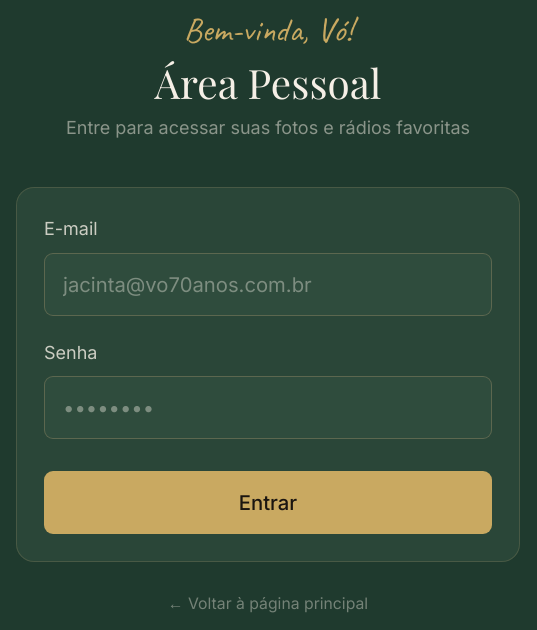
Test: LoginPage › shows loading state while submitting
Type "ana@test.com" into the field labelled "E-mail" at (268, 285), box [44,253,492,316]
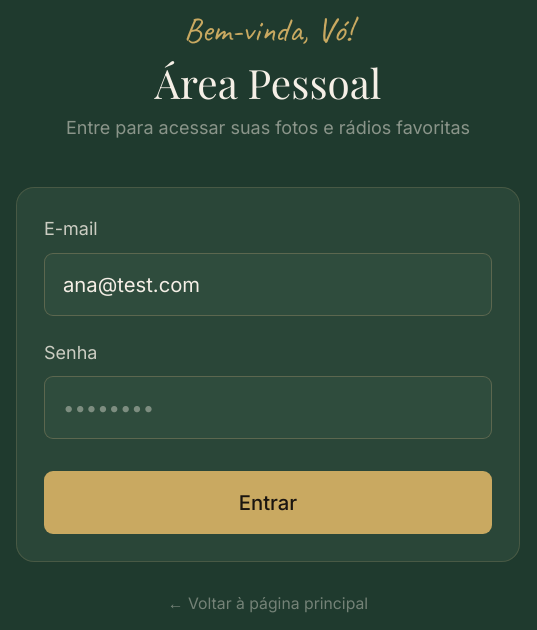
Type "pass" into the password field labelled "Senha" at (268, 408), box [44,376,492,439]
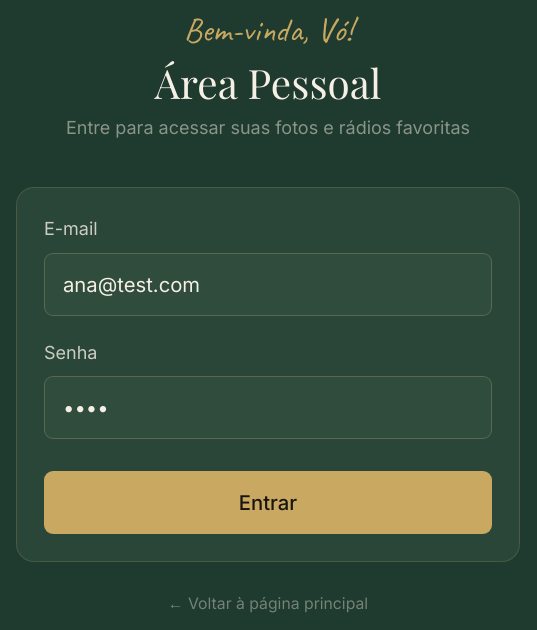
Click the button "Entrar" at (268, 502), box [44,471,492,534]
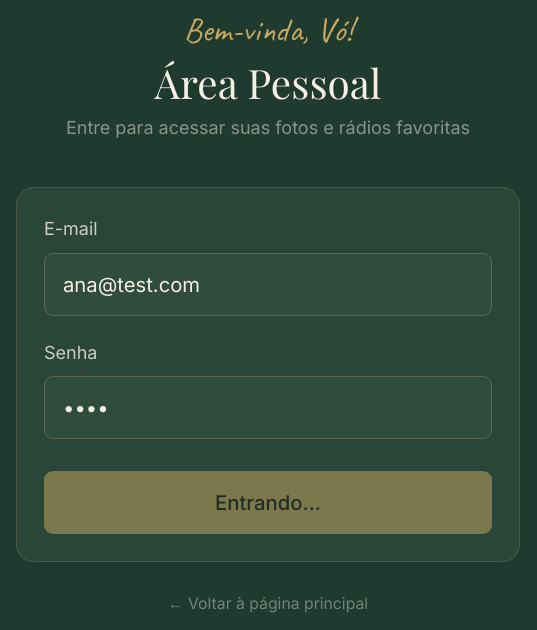
Now the button "Entrando..." is disabled, box [44,471,492,534]
